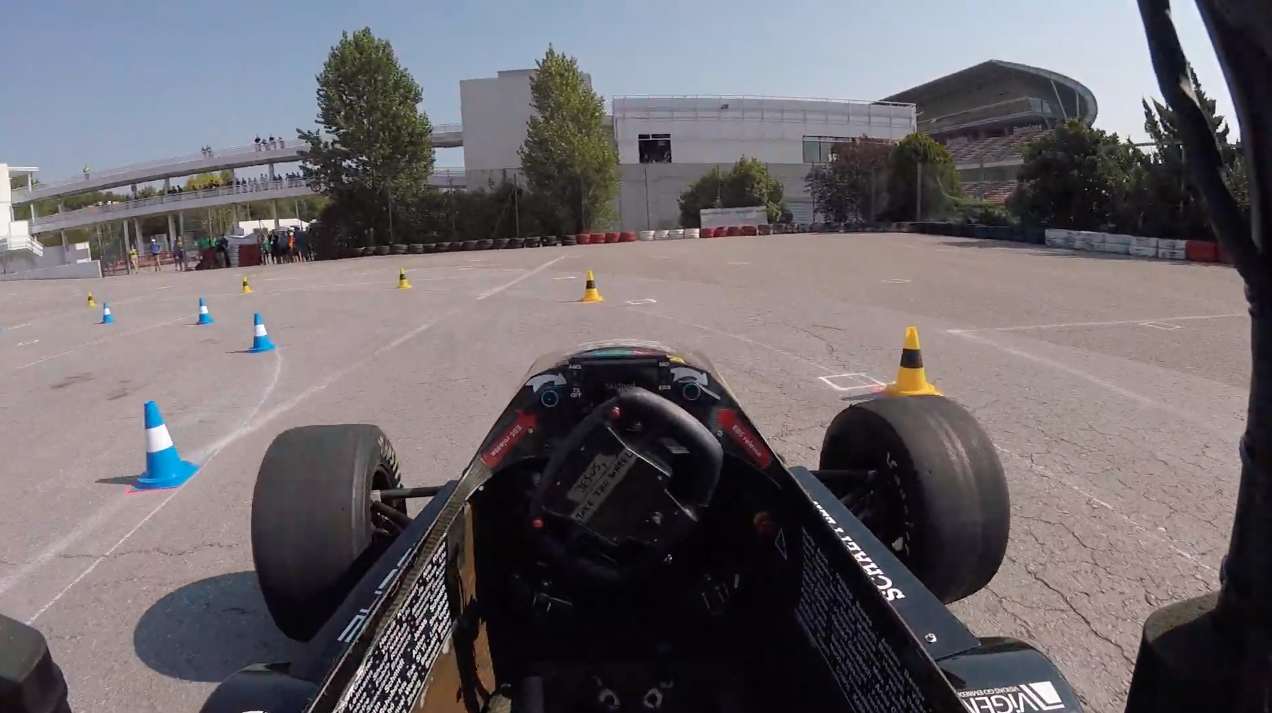lcone: (121, 399, 200, 495), (247, 309, 280, 354), (194, 295, 218, 326)
rcone: (884, 323, 948, 397), (578, 266, 607, 306), (396, 267, 414, 291)
